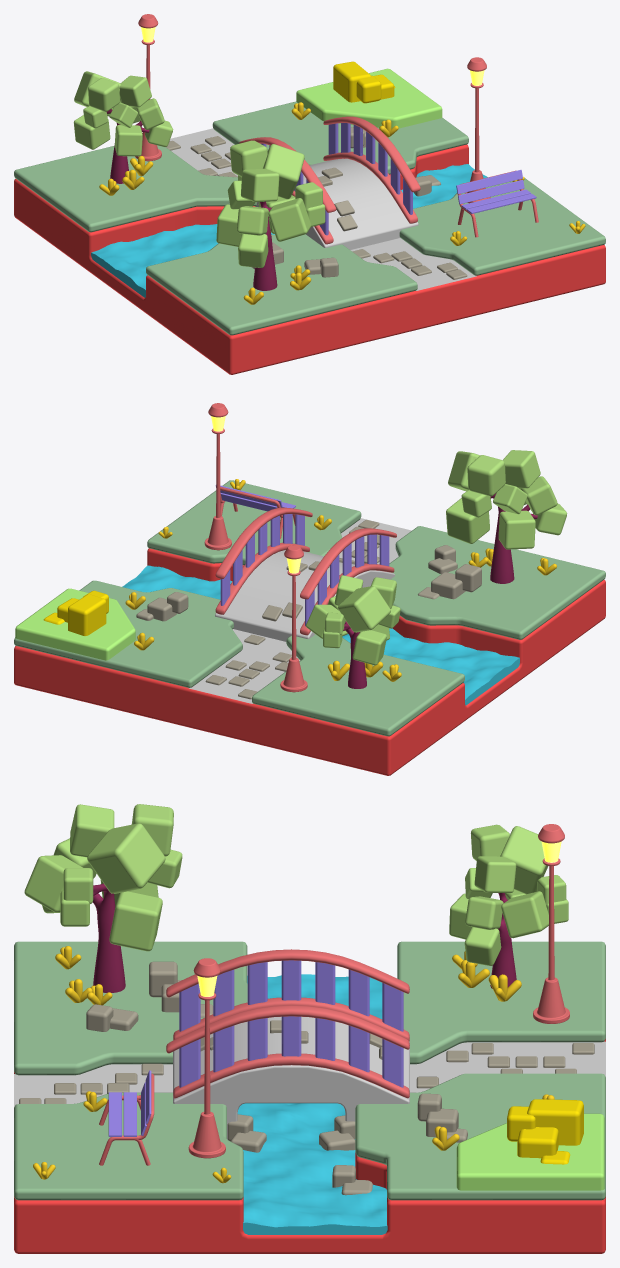
3 views of the same model, one above another, from view 1: azimuth 30°, elevation 25°; view 2: azimuth 150°, elevation 25°; view 3: azimuth 270°, elevation 25° (orthographic). The views are drawn at different scales.
Visible parts, largest first — view 1: Grass.001_1, Ground_0, Plane_56, Bridge_5, Grass.002_2, Path_55, Plane.001_3, Plane.002_4, Bench_34, Rock.006_52, Cube.010_15, Cube.011_16 (+19 smaller); view 2: Grass.001_1, Ground_0, Plane_56, Bridge_5, Grass.002_2, Plane.002_4, Plane.001_3, Path_55, Rock.006_52, Cube.022_28, Lamp_53, Lamp.001_54 (+18 smaller); view 3: Grass.001_1, Ground_0, Plane_56, Plane.002_4, Bridge_5, Plane.001_3, Grass.002_2, Path_55, Rock.006_52, Cube.010_15, Lamp_53, Lamp.001_54 (+23 smaller).
Part boxes in pixels (bbox=[...]): Grass.001_1: bbox=[14, 101, 605, 335]; Ground_0: bbox=[14, 144, 605, 374]; Plane_56: bbox=[91, 164, 487, 297]; Bridge_5: bbox=[255, 158, 418, 249]; Grass.002_2: bbox=[296, 68, 442, 128]; Path_55: bbox=[169, 128, 476, 290]; Plane.001_3: bbox=[239, 116, 420, 244]; Plane.002_4: bbox=[261, 123, 412, 235]; Bench_34: bbox=[456, 170, 536, 213]; Rock.006_52: bbox=[333, 61, 395, 103]; Cube.010_15: bbox=[263, 144, 304, 199]; Cube.011_16: bbox=[268, 198, 311, 241]; Grass.001_1: bbox=[14, 480, 605, 736]; Ground_0: bbox=[14, 548, 605, 775]; Plane_56: bbox=[122, 565, 519, 705]; Bridge_5: bbox=[215, 550, 394, 641]; Grass.002_2: bbox=[15, 588, 135, 660]; Plane.002_4: bbox=[220, 514, 389, 626]; Plane.001_3: bbox=[215, 507, 396, 635]; Path_55: bbox=[189, 518, 411, 703]; Rock.006_52: bbox=[43, 590, 108, 635]; Cube.022_28: bbox=[338, 586, 390, 632]; Lamp_53: bbox=[204, 403, 231, 550]; Lamp.001_54: bbox=[280, 545, 307, 692]; Grass.001_1: bbox=[14, 941, 605, 1200]; Ground_0: bbox=[14, 1039, 605, 1253]; Plane_56: bbox=[237, 974, 387, 1234]; Plane.002_4: bbox=[179, 960, 403, 1087]; Bridge_5: bbox=[173, 1016, 409, 1139]; Plane.001_3: bbox=[166, 949, 409, 1098]; Grass.002_2: bbox=[456, 1113, 604, 1190]; Path_55: bbox=[14, 1041, 605, 1107]; Rock.006_52: bbox=[507, 1099, 583, 1164]; Cube.010_15: bbox=[87, 823, 165, 893]; Lamp_53: bbox=[188, 958, 225, 1158]; Lamp.001_54: bbox=[533, 824, 569, 1023].
Size of the model in its own units: 8 by 3.8 by 8.
4 materials, 3 textured.
